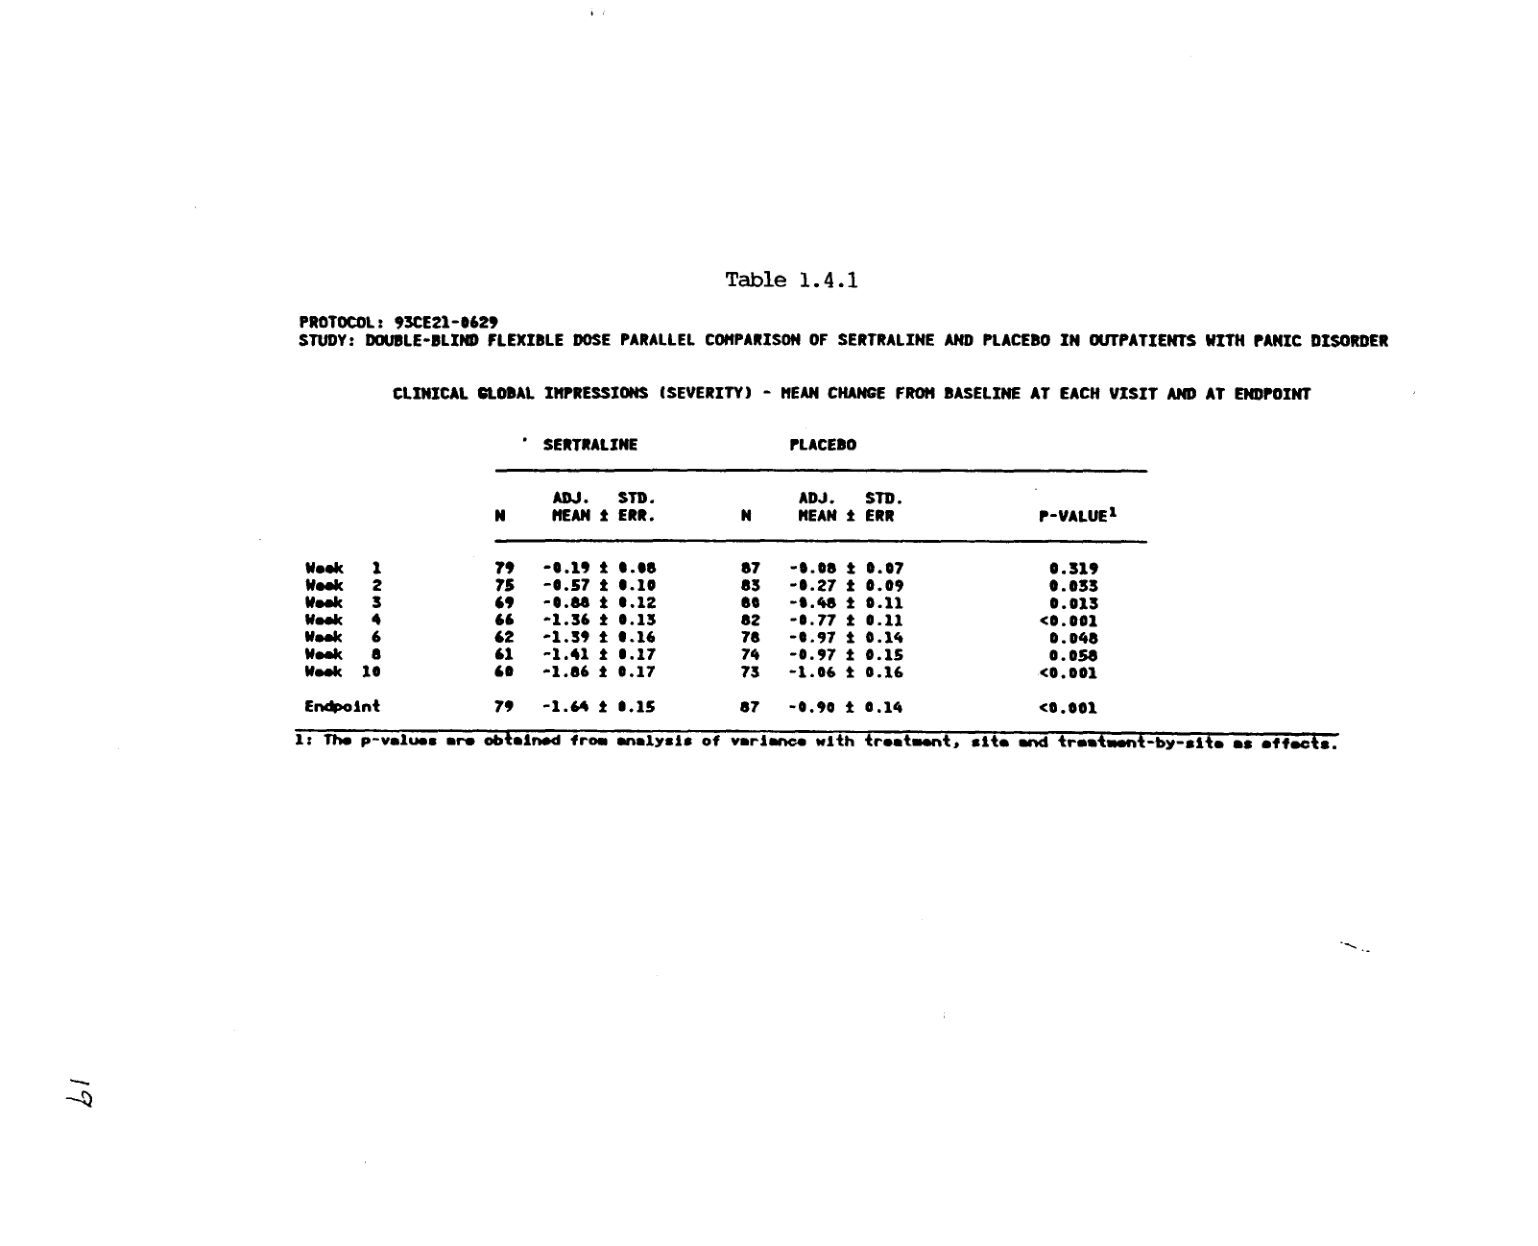partial_lined_merged_cells: (303, 434, 1147, 716)
